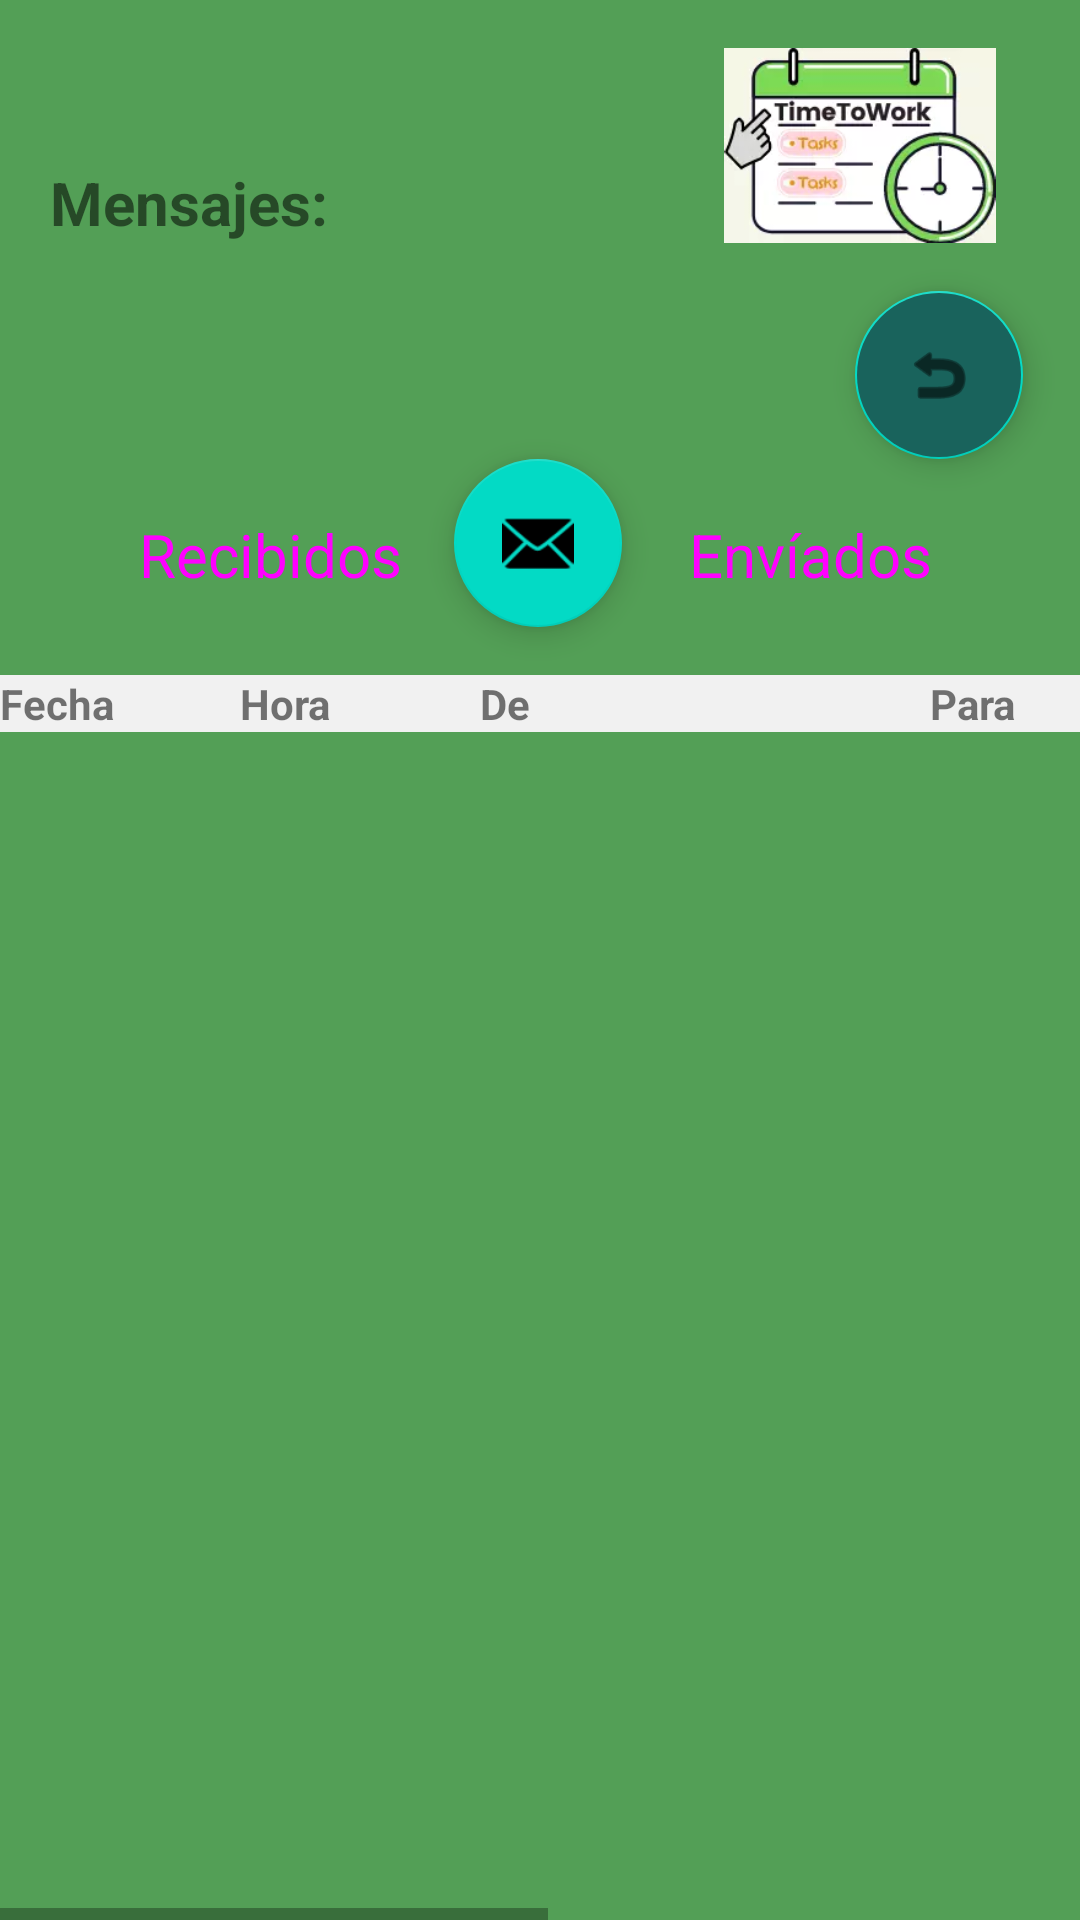

Locate icon controls on the screen. Image size 1080px x 1920px, boxes as (x1, y1, x2, y2).
Nuevo Mensaje: (454, 459, 622, 627)
Volver: (855, 291, 1023, 459)
